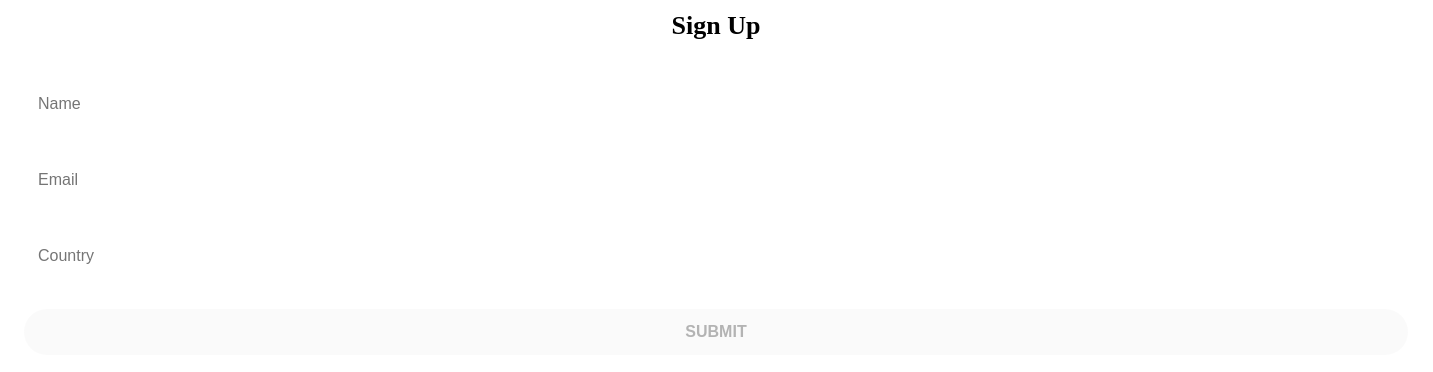
<SignUpForm/> › should disable submit "button" after submision
This screenshot has width=1433, height=372.
Type "cesar rivera" into the field with placeholder "Name" at (716, 104), box [24,81,1408,127]
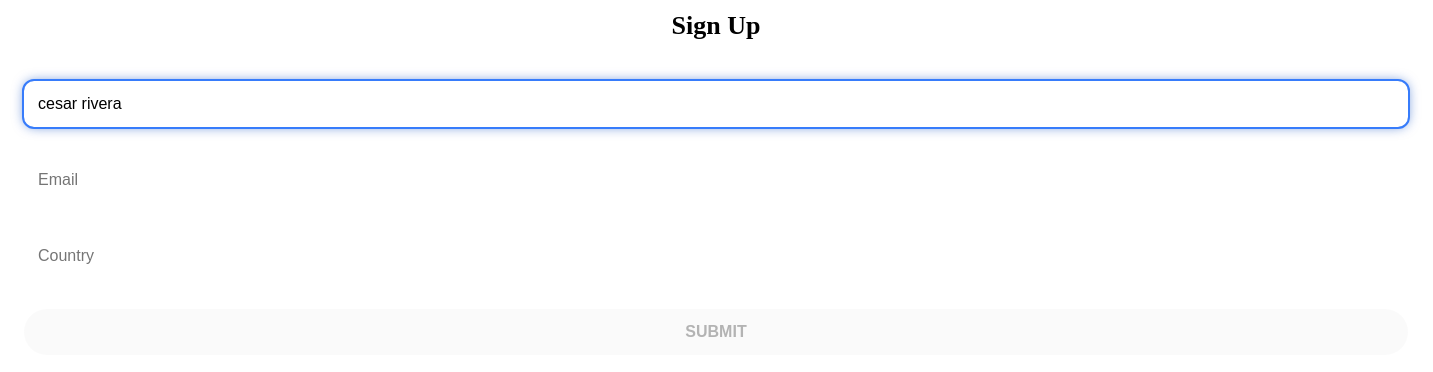
Type "riveramirandac@gmail.com" into the field with placeholder "Email" at (716, 180), box [24,157,1408,203]
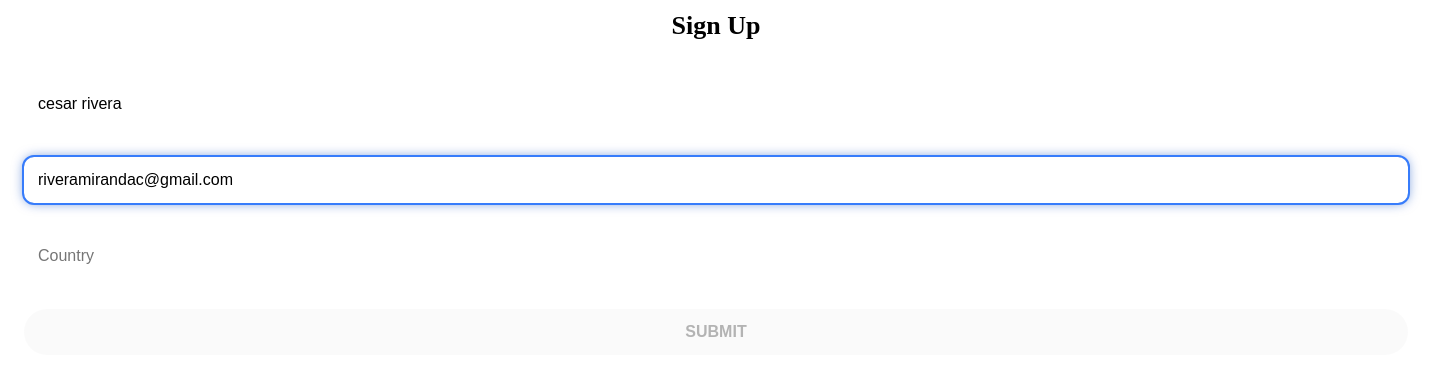
Type "ecuador" into the field with placeholder "Country" at (716, 256), box [24,233,1408,279]
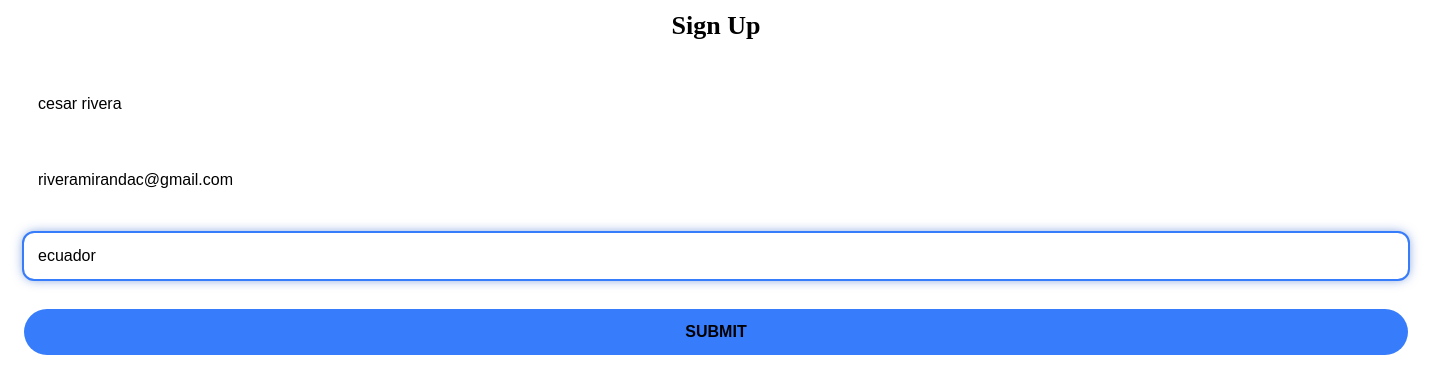
Click the button "Submit" at (716, 332), box [24,309,1408,355]
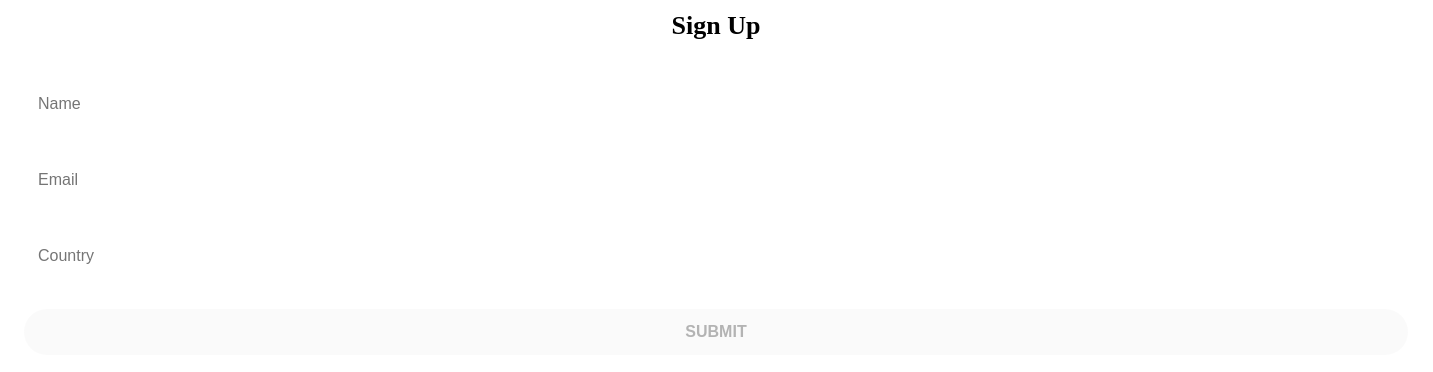
Result: the button "Submit" is disabled at [24,309,1408,355]
